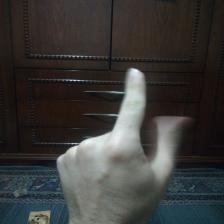five: (46, 60, 198, 221)
